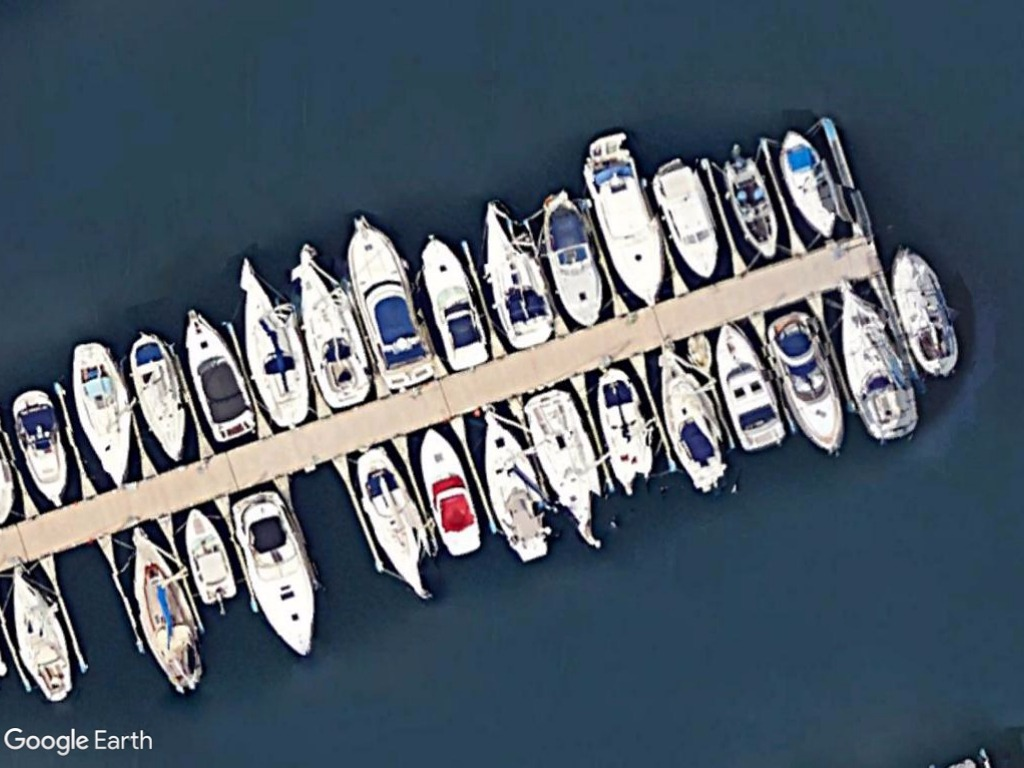boat: (225, 482, 325, 660), (347, 212, 436, 395), (124, 522, 212, 701), (581, 142, 672, 314), (835, 276, 923, 445), (522, 384, 609, 548), (294, 242, 377, 413), (237, 253, 314, 433), (763, 305, 849, 457), (355, 443, 435, 604), (479, 404, 557, 566), (478, 196, 557, 355), (655, 336, 731, 498), (70, 339, 142, 498), (419, 231, 496, 375), (5, 560, 80, 703), (889, 241, 961, 384), (184, 308, 258, 444), (714, 320, 786, 457), (416, 423, 487, 561), (540, 186, 608, 330), (591, 363, 661, 500), (128, 326, 195, 467), (647, 157, 723, 279), (776, 122, 842, 244), (9, 385, 71, 506), (721, 151, 785, 261), (183, 506, 242, 606)
